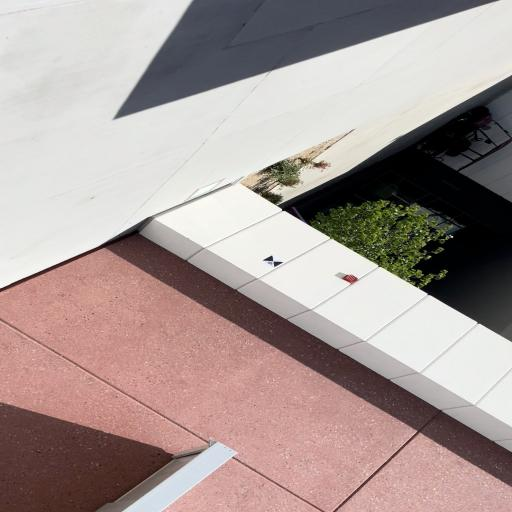target6: (262, 255, 284, 268)
